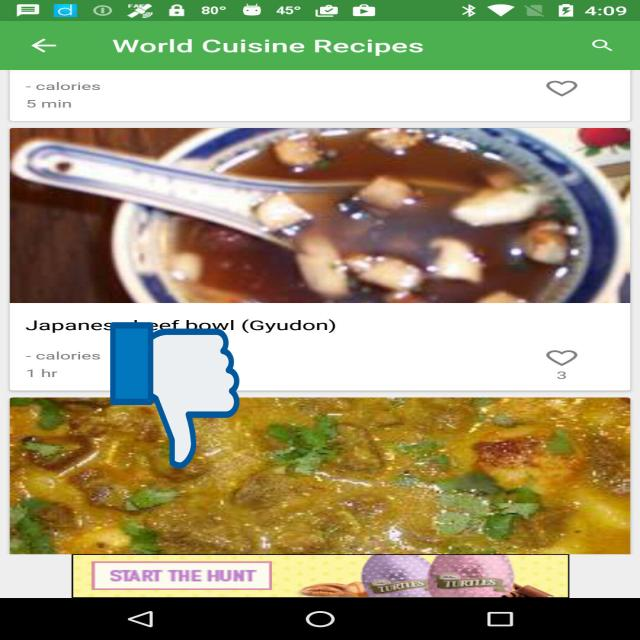obstruction: (110, 319, 240, 472)
